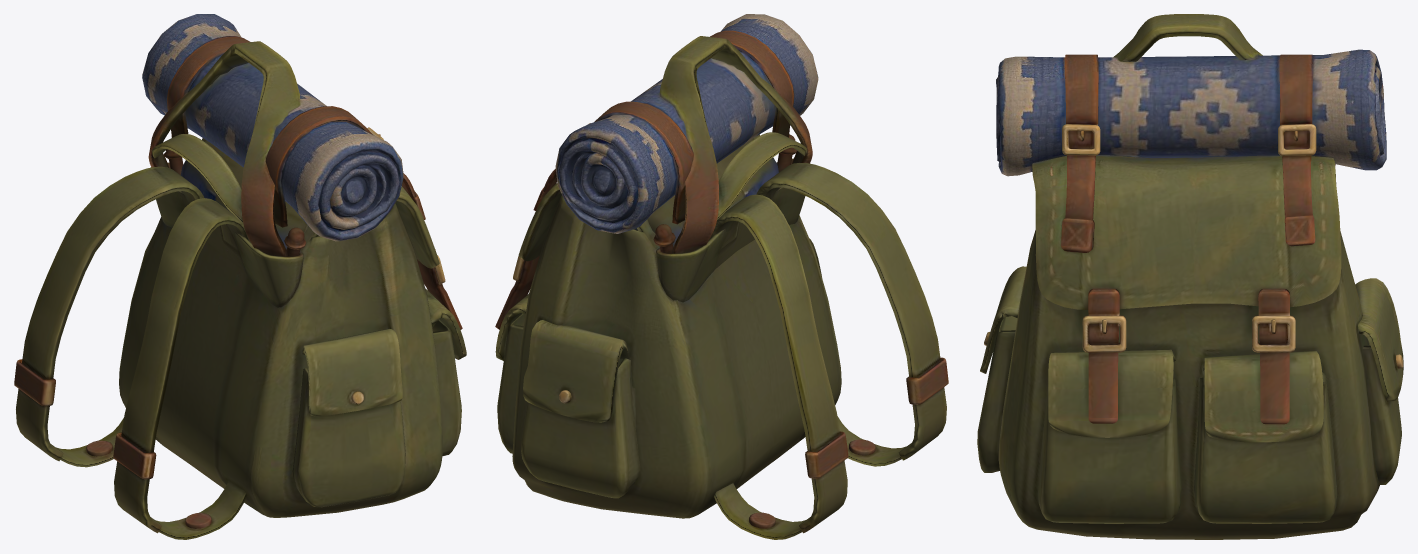
File: backpack.glb
3 views of the same model, side by side, from view 1: azimuth 30°, elevation 25°; view 2: azimuth 150°, elevation 25°; view 3: azimuth 270°, elevation 25° (orthographic). The views are drawn at different scales.
Visible parts, largest first — view 1: tripo_node_dfc24aaa-c75b-47b5-a39e-f21c869cfae1; view 2: tripo_node_dfc24aaa-c75b-47b5-a39e-f21c869cfae1; view 3: tripo_node_dfc24aaa-c75b-47b5-a39e-f21c869cfae1.
Boxes of the visible parts, <box> form: tripo_node_dfc24aaa-c75b-47b5-a39e-f21c869cfae1: <box>14,14,466,539</box>; tripo_node_dfc24aaa-c75b-47b5-a39e-f21c869cfae1: <box>495,14,948,539</box>; tripo_node_dfc24aaa-c75b-47b5-a39e-f21c869cfae1: <box>977,14,1403,539</box>.
Bounding box in the file's own units: 0.855 × 0.9995 × 0.8257.
1 material, 1 textured.
